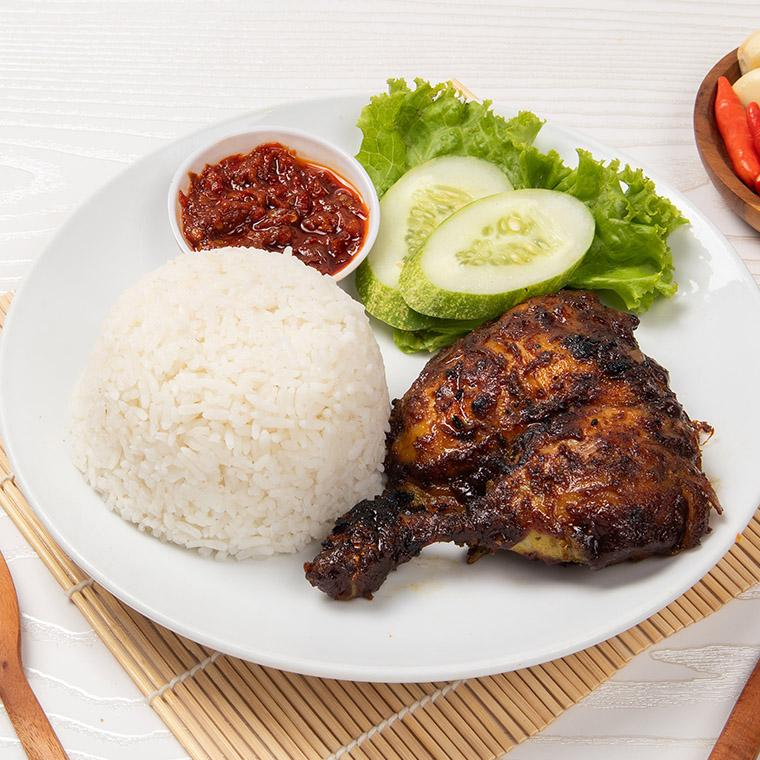buah_sayur_lainnya: (390, 186, 574, 292)
buah_sayur_vitA: (226, 157, 327, 229)
daging: (452, 354, 637, 532)
makanan_berpati: (154, 288, 324, 504)
